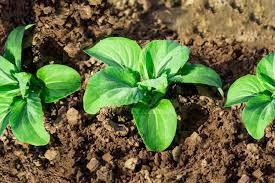Healthy-Pechay: (83, 31, 219, 154), (0, 23, 81, 153), (233, 45, 275, 133)
